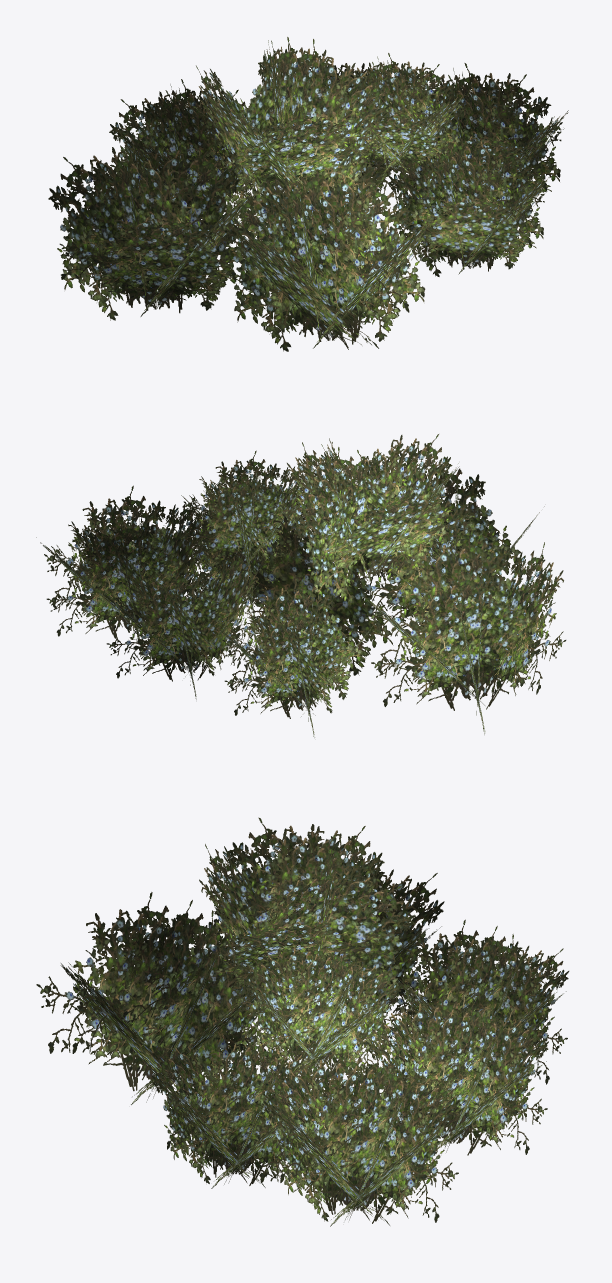
File: core_shrb_perzizole_l1.fbx
The picture shows the model from 3 angles, top to bottom: view 1: azimuth 30°, elevation 25°; view 2: azimuth 150°, elevation 25°; view 3: azimuth 270°, elevation 25°; orthographic projection. The views are drawn at different scales.
Visible parts, largest first — view 1: mesh_node; view 2: mesh_node; view 3: mesh_node.
Part boxes in pixels (x1=…): mesh_node: x1=48, y1=37, x2=568, y2=351; mesh_node: x1=36, y1=434, x2=566, y2=737; mesh_node: x1=36, y1=817, x2=569, y2=1226.
Size of the model in its own units: 10.78 by 5.47 by 8.72.
